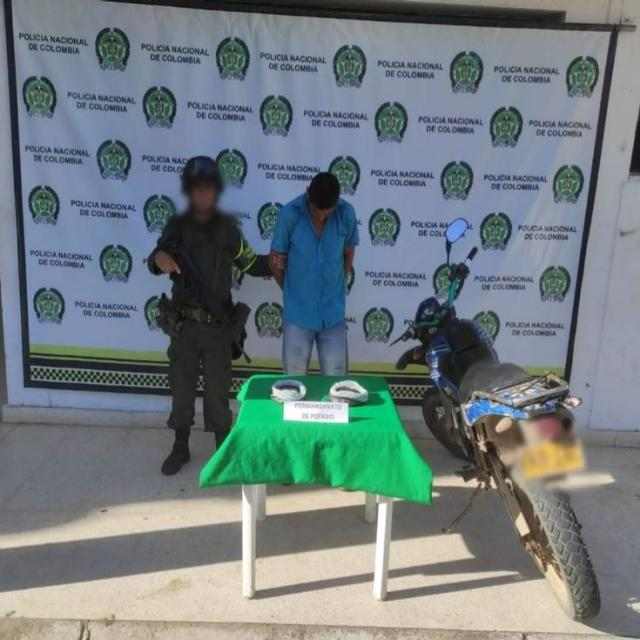9_cabeza_baja: (304, 171, 340, 223)
